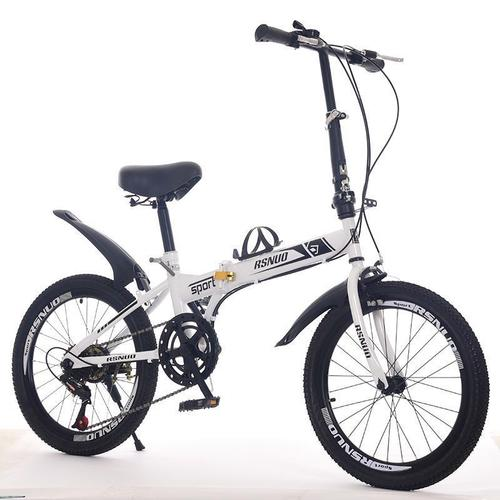单车: (11, 11, 495, 494)
